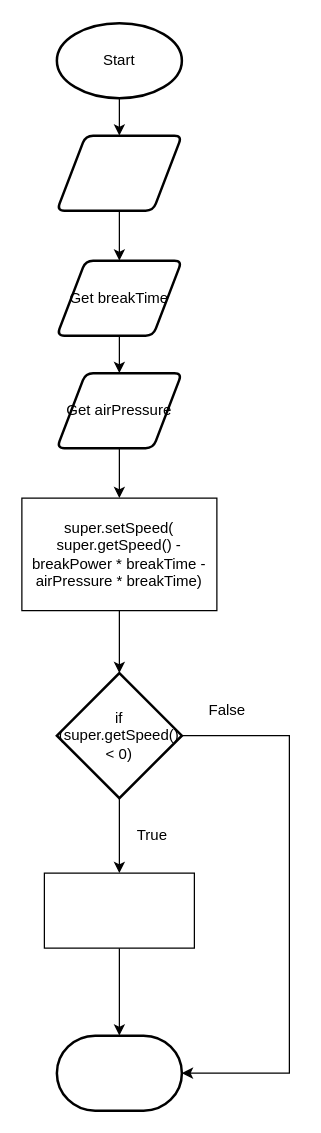
This 321x1133 diagram has some shape labels left out. The shapes that lost their labels are listed below. From the top down, each one's centre as x and y in pixels, then its label:
[118,172]: Get breakPower
[118,910]: super.setSpeed(0)
[118,1072]: Stop
